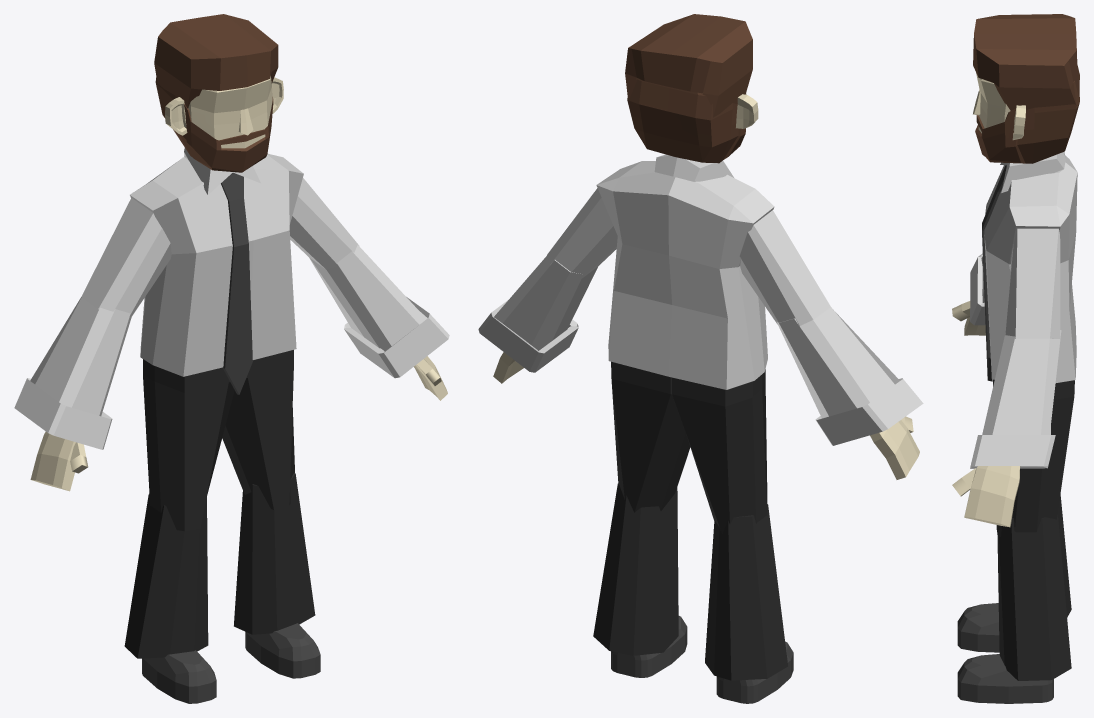
File: boneless(Teacher).fbx
The picture shows the model from 3 angles, left to right: view 1: azimuth 30°, elevation 25°; view 2: azimuth 150°, elevation 25°; view 3: azimuth 270°, elevation 25°; orthographic projection. The views are drawn at different scales.
Visible parts, largest first — view 1: under.011, under.010, arm.004, under.008, under.001, arm, hair, head.002, arm.005, tie, arm.001, under.006 (+4 smaller); view 2: under.011, under.010, under.001, under.008, arm.004, hair, arm, head.002, arm.005, arm.001, hand.001, under (+1 smaller); view 3: under.011, under.001, hair, arm, arm.001, head.002, under.010, under, hand, under.006, tie, arm.004 (+3 smaller).
Part boxes in pixels (x1,y1,x2,y2): under.011: (130, 147, 303, 376); under.010: (143, 350, 294, 531); arm.004: (14, 297, 131, 449); under.008: (124, 494, 208, 658); under.001: (234, 473, 315, 634); arm: (309, 245, 449, 378); hair: (154, 14, 278, 108); head.002: (155, 76, 273, 172); arm.005: (81, 198, 171, 316); tie: (221, 172, 252, 394); arm.001: (289, 178, 359, 268); under.006: (142, 650, 216, 703); under.011: (596, 154, 774, 389); under.010: (611, 361, 767, 534); under.001: (593, 483, 678, 655); under.008: (705, 504, 787, 680); arm.004: (776, 307, 923, 445); hair: (625, 14, 752, 117); arm: (478, 255, 597, 372); head.002: (627, 78, 746, 163); arm.005: (739, 210, 830, 325); arm.001: (547, 188, 617, 278); hand.001: (870, 416, 919, 479); under: (611, 616, 687, 677); under.011: (984, 152, 1077, 382); under.001: (997, 514, 1071, 680); hair: (973, 14, 1077, 110); arm: (970, 330, 1061, 468); arm.001: (1005, 228, 1060, 338); head.002: (973, 65, 1079, 163); under.010: (993, 379, 1074, 536); under: (957, 654, 1053, 703); hand: (952, 466, 1020, 527); under.006: (957, 603, 999, 652); tie: (982, 165, 1006, 381); arm.004: (970, 253, 985, 325).
Bounding box in the file's own units: 128 × 192 × 34.94.
